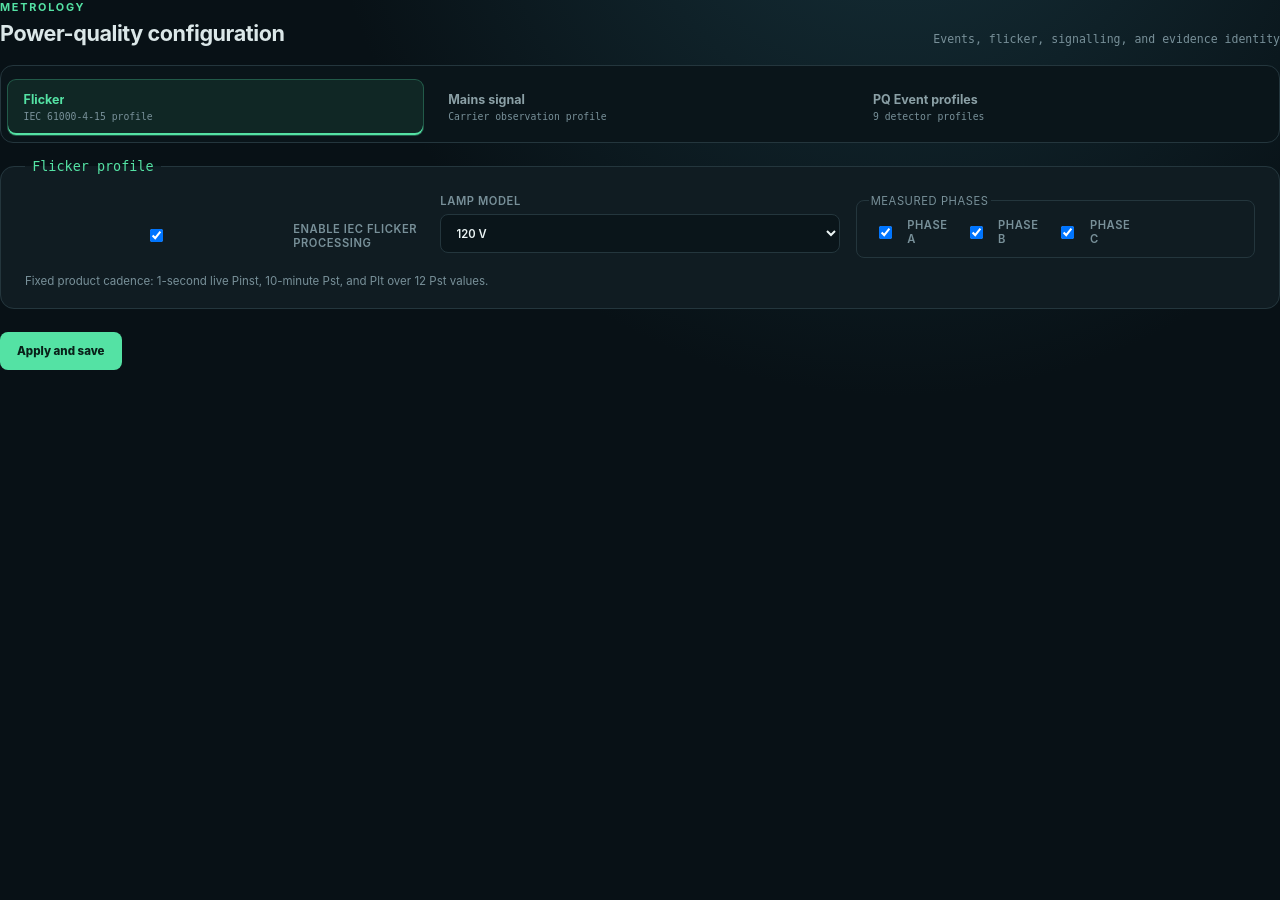
Test: Power-quality configuration › saves typed M18 policy without overwriting unrelated active settings
Check: the field labelled "Carrier frequency (Hz)" is not shown
Click the tab "Mains signal Carrier observation profile": [487, 100] box [431,79,849,136]
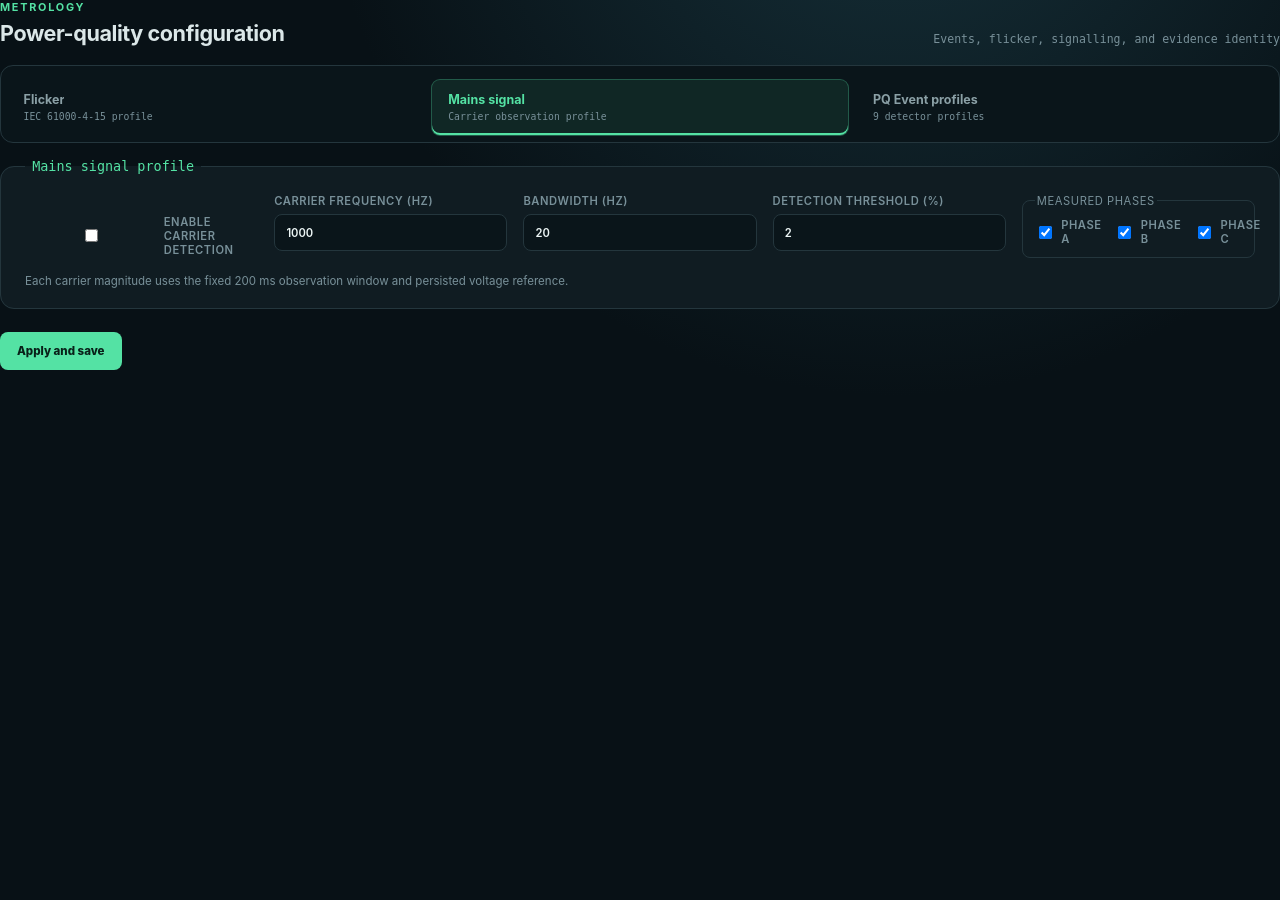
Replace the text in the number field labelled "Carrier frequency (Hz)" with "1175.5": [391, 232] box [274,214,507,251]
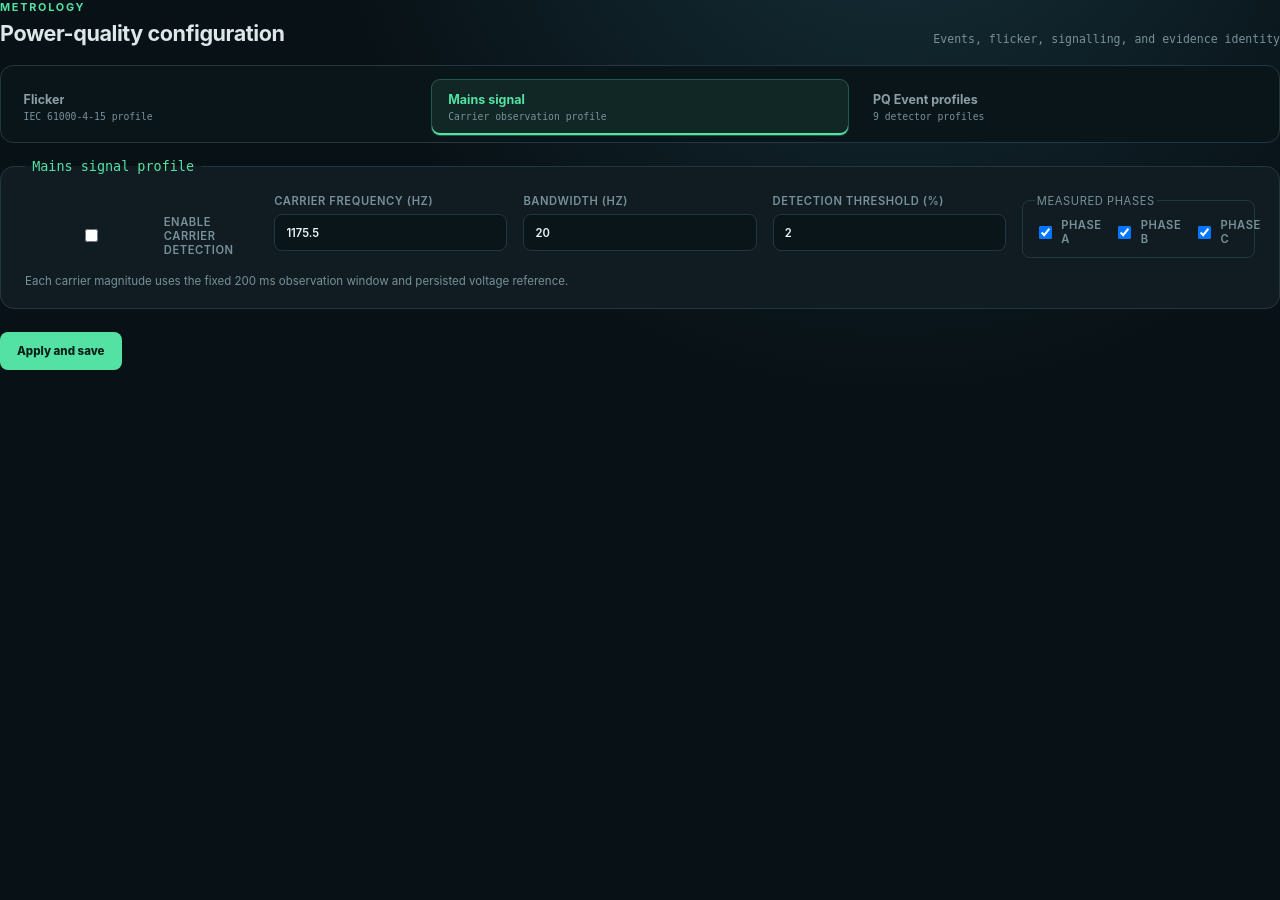
Click the tab "PQ Event profiles 9 detector profiles": [925, 100] box [856,79,1273,136]
(page scrolled)
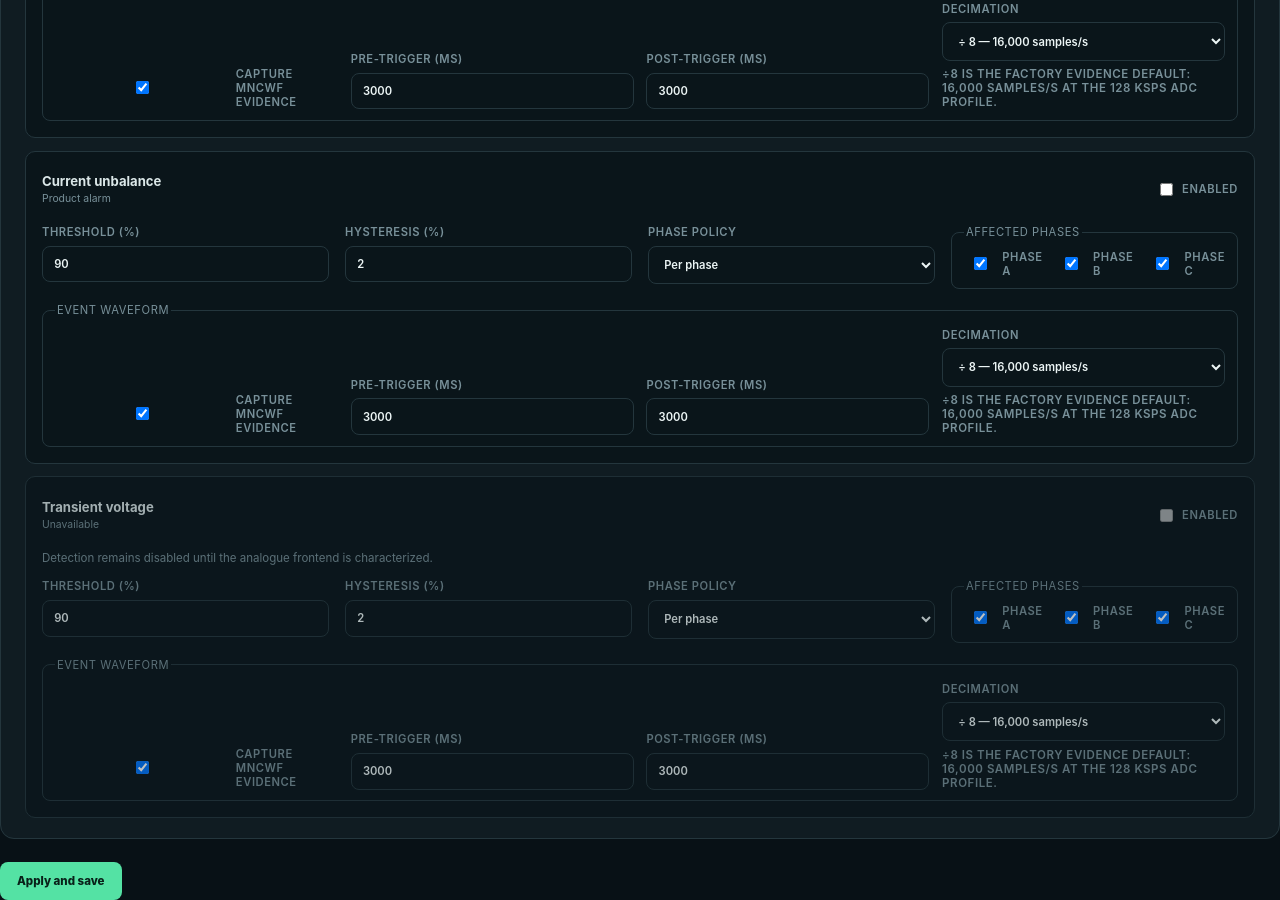
Click the button "Apply and save": [61, 881] box [0,862,122,899]
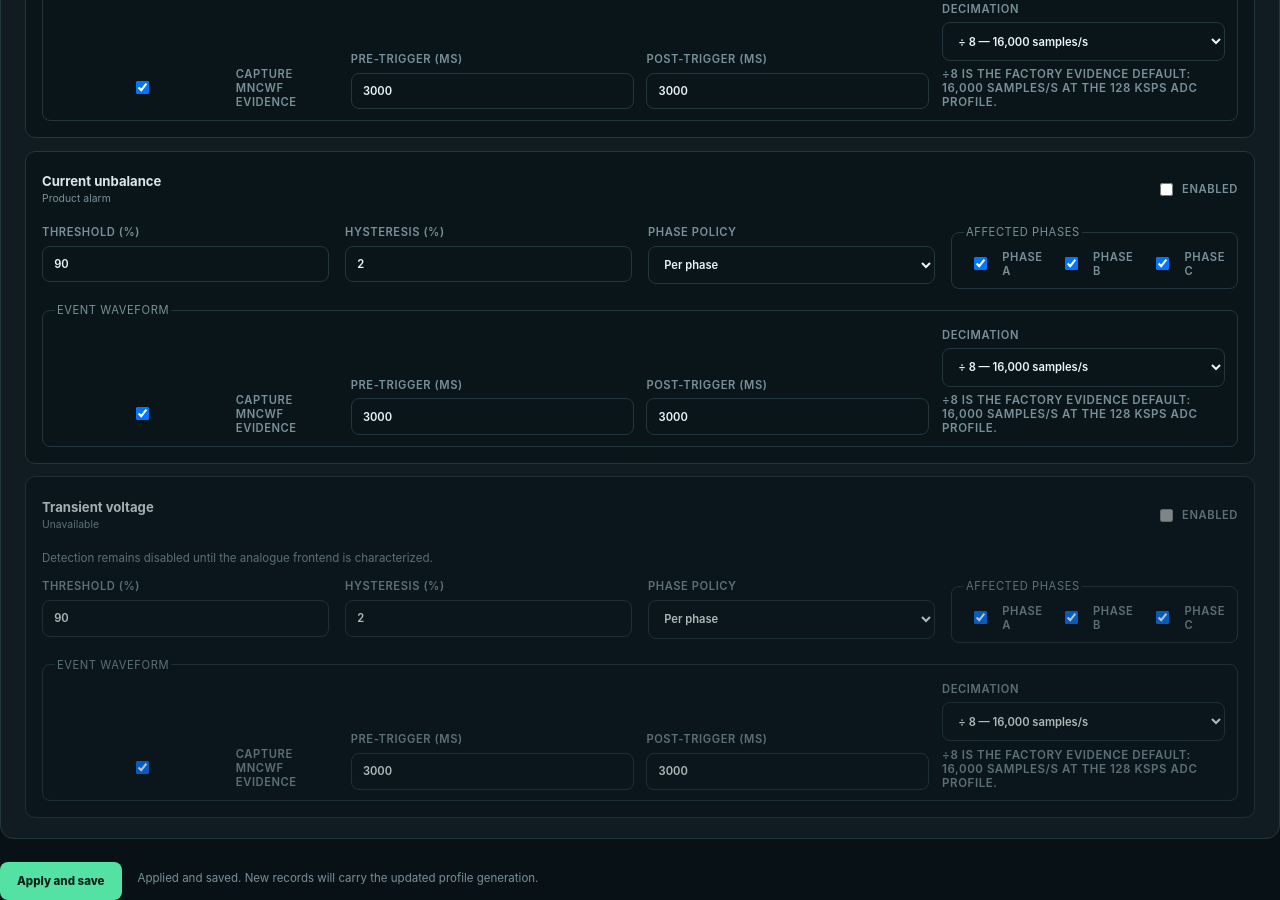
Check: the text "updated profile generation" is shown, box [138,871,538,885]
